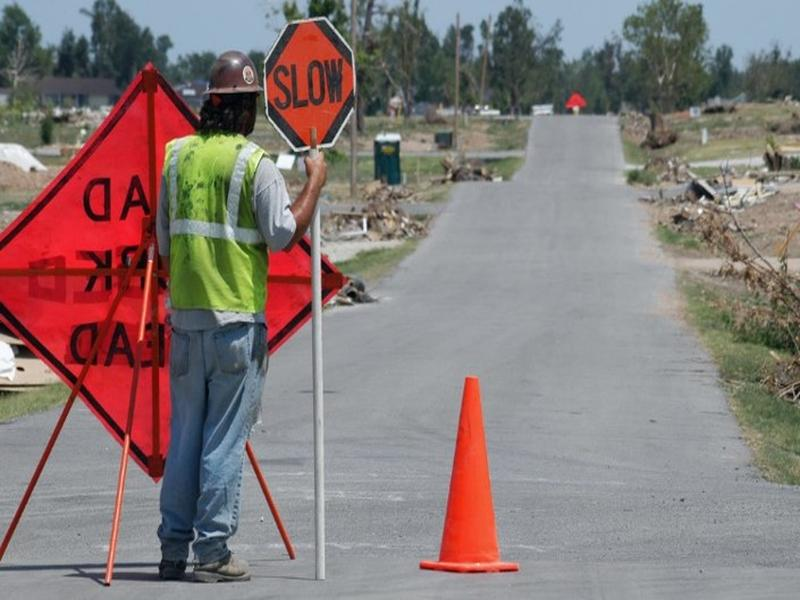Cone: (420, 375, 519, 573)
